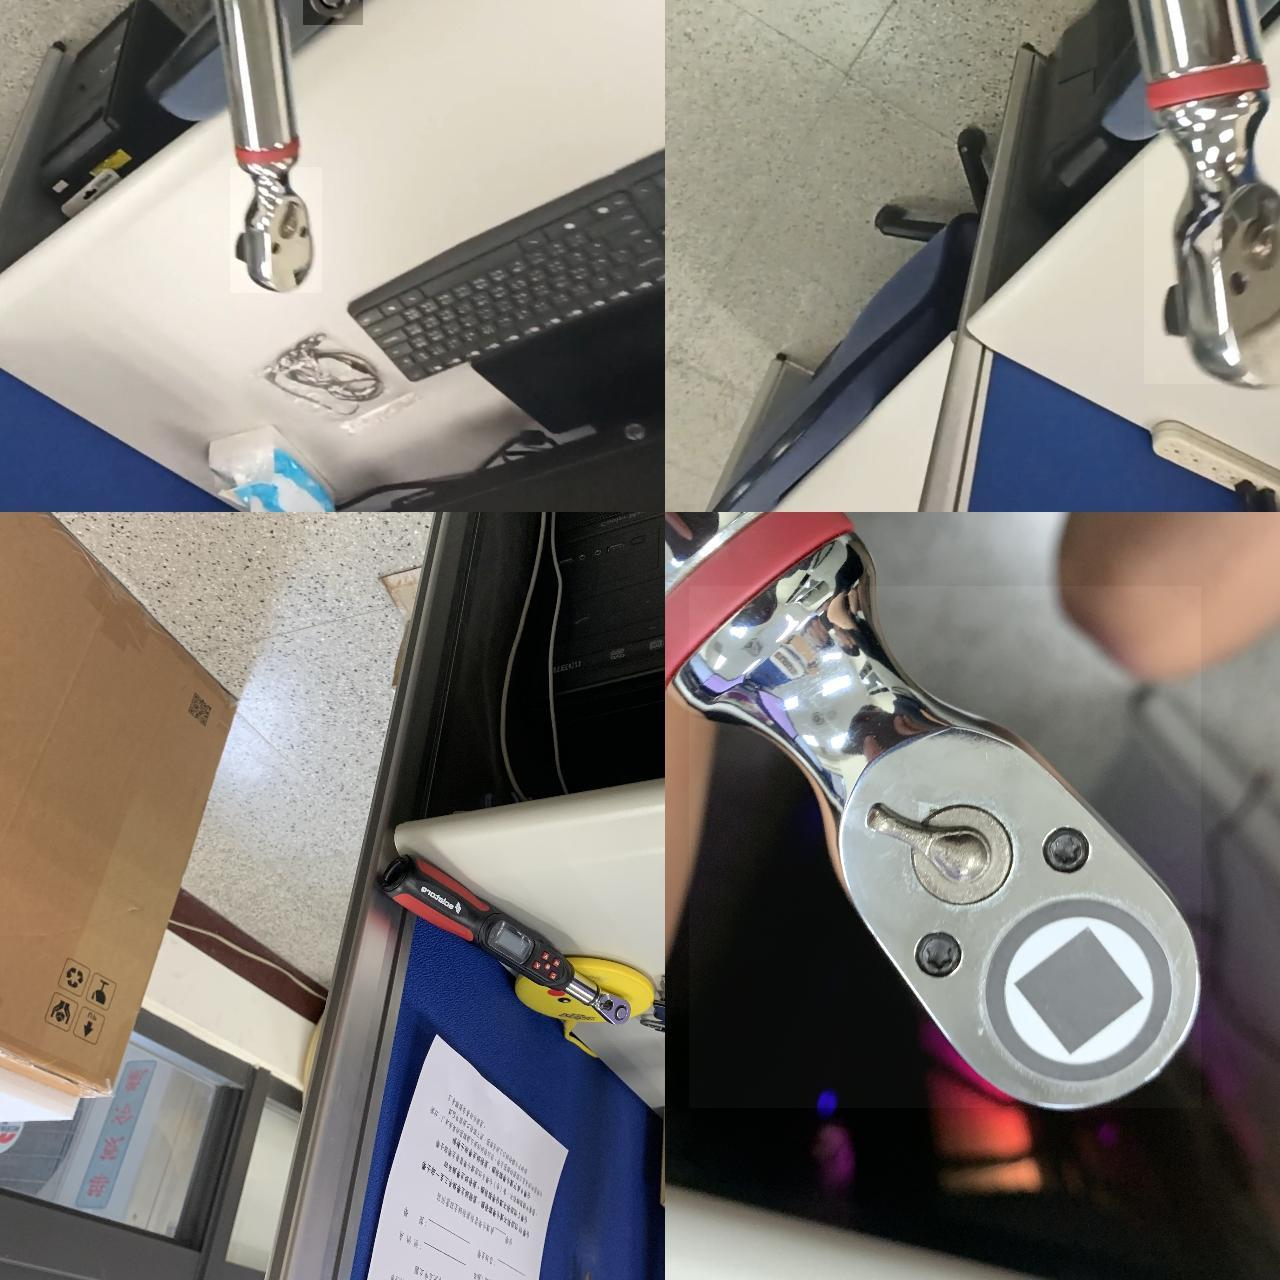Tool: (688, 585, 1200, 1107), (1143, 96, 1280, 383), (229, 166, 321, 292), (302, 0, 362, 23)
